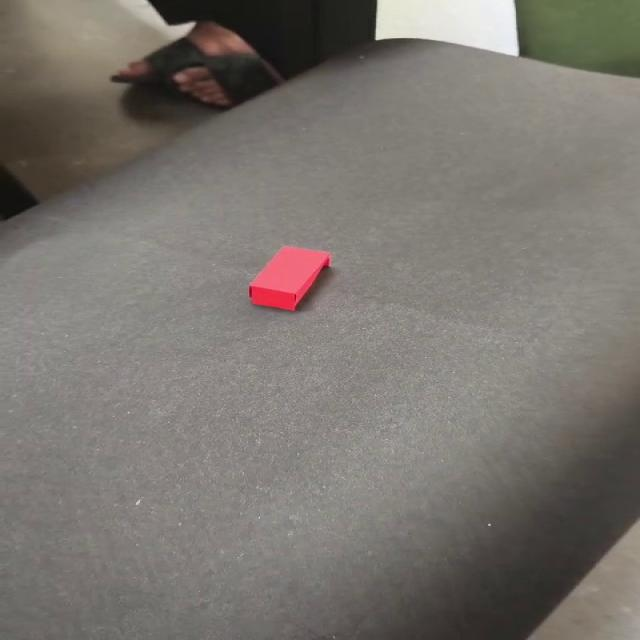red block: (247, 245, 331, 311)
